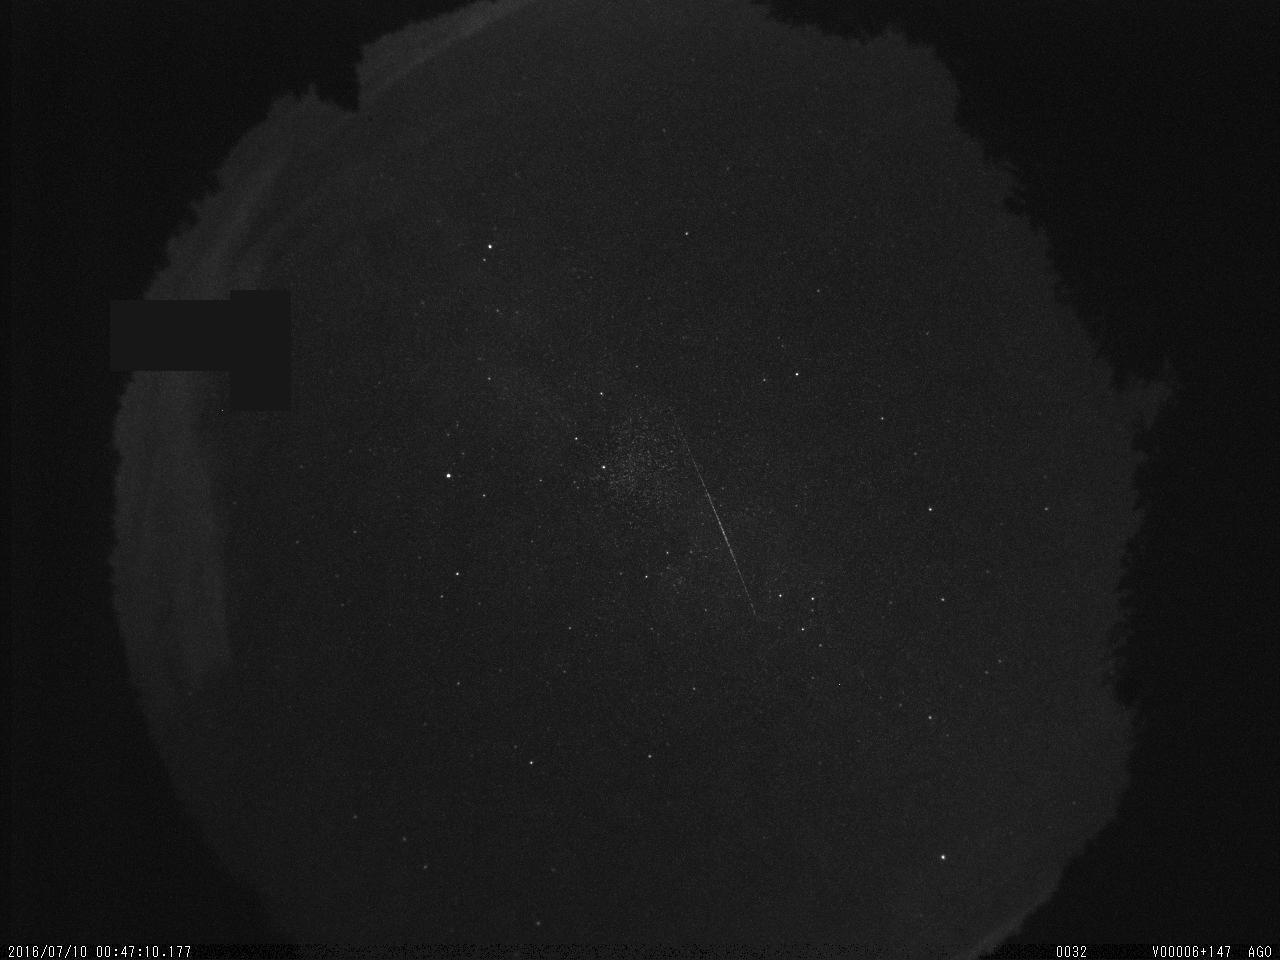meteor: (633, 394, 854, 661)
